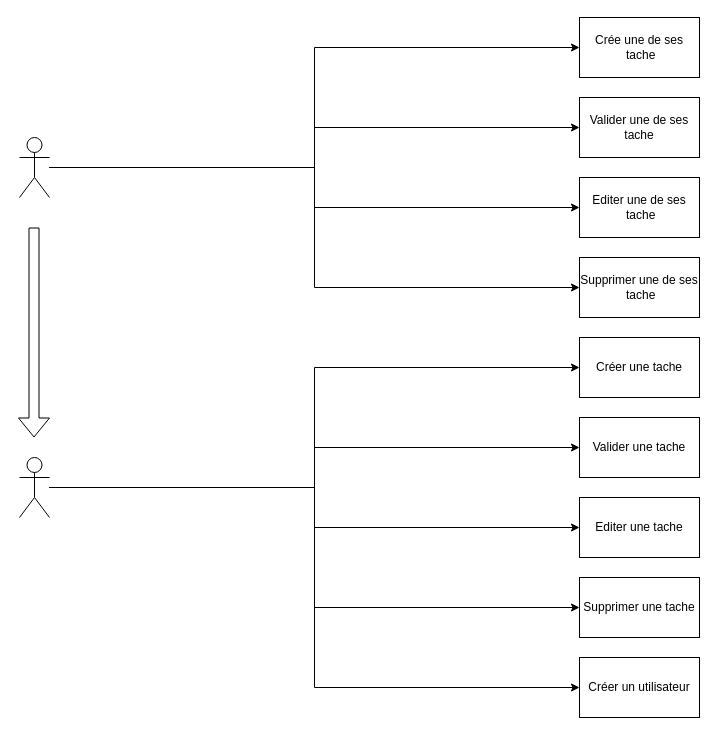
This 717x735 diagram has some shape labels left out. The box of each missing label's shape, as (x1, y1, x2, y2) in pixels:
Admin: (18, 456, 50, 518)
User: (18, 136, 50, 198)
